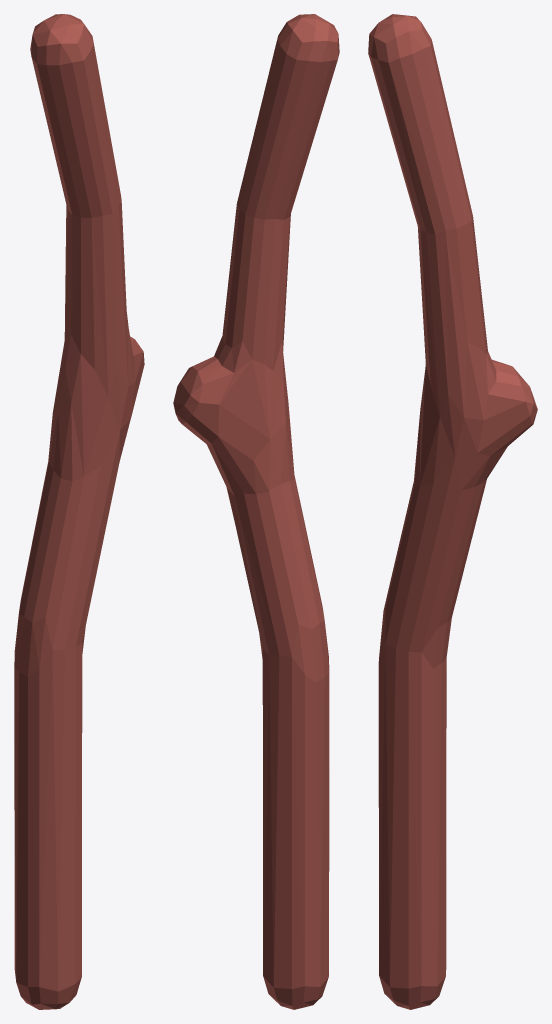
Rendered from branch.fbx.
The picture shows the model from 3 angles, left to right: view 1: azimuth 30°, elevation 25°; view 2: azimuth 150°, elevation 25°; view 3: azimuth 330°, elevation 25°; orthographic projection. The views are drawn at different scales.
Visible parts, largest first — view 1: Cube; view 2: Cube; view 3: Cube.
Boxes of the visible parts, x1=… form: Cube: x1=14, y1=14, x2=144, y2=1009; Cube: x1=173, y1=14, x2=339, y2=1009; Cube: x1=368, y1=14, x2=537, y2=1009.
Bounding box in the file's own units: 47.49 × 333 × 37.84.
